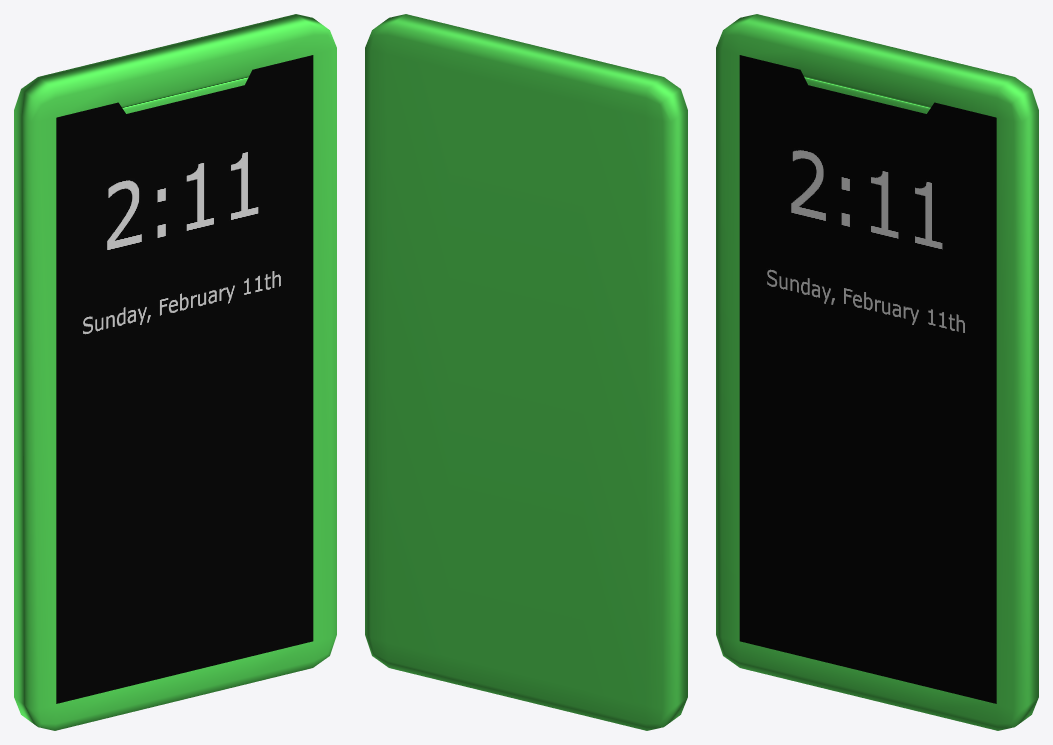
File: BirthdayPhone.glb
3 renders of one model, left to right at view 1: azimuth 30°, elevation 25°; view 2: azimuth 150°, elevation 25°; view 3: azimuth 330°, elevation 25°, orthographic.
Parts seen in each view (by area): view 1: Cube, Cube.001; view 2: Cube.001; view 3: Cube, Cube.001.
Boxes of the visible parts, x1,y1,x2,y2 form: Cube: (56, 55, 313, 703); Cube.001: (14, 14, 336, 730); Cube.001: (365, 14, 687, 730); Cube: (739, 55, 996, 703); Cube.001: (716, 14, 1038, 730).
Size of the model in its own units: 1.85 by 3.71 by 0.21.
Materials: 2 (1 with a texture image).
